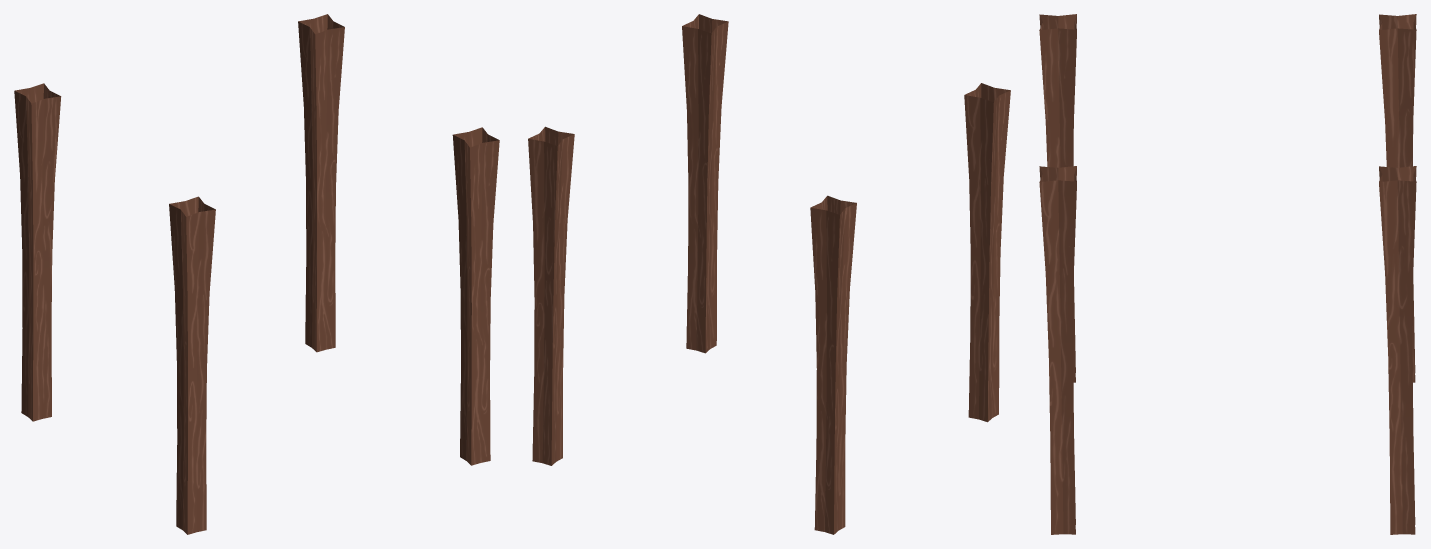
The model's file is lvl3_tableleg_mesh.FBX.
3 views of the same model, side by side, from view 1: azimuth 30°, elevation 25°; view 2: azimuth 150°, elevation 25°; view 3: azimuth 270°, elevation 25° (orthographic). The views are drawn at different scales.
Parts seen in each view (by area): view 1: Box005; view 2: Box005; view 3: Box005.
Boxes of the visible parts, <box> form: Box005: <box>14,14,499,534</box>; Box005: <box>528,14,1010,534</box>; Box005: <box>1039,14,1416,534</box>.
Size of the model in its own units: 2027 by 2003 by 1925.
